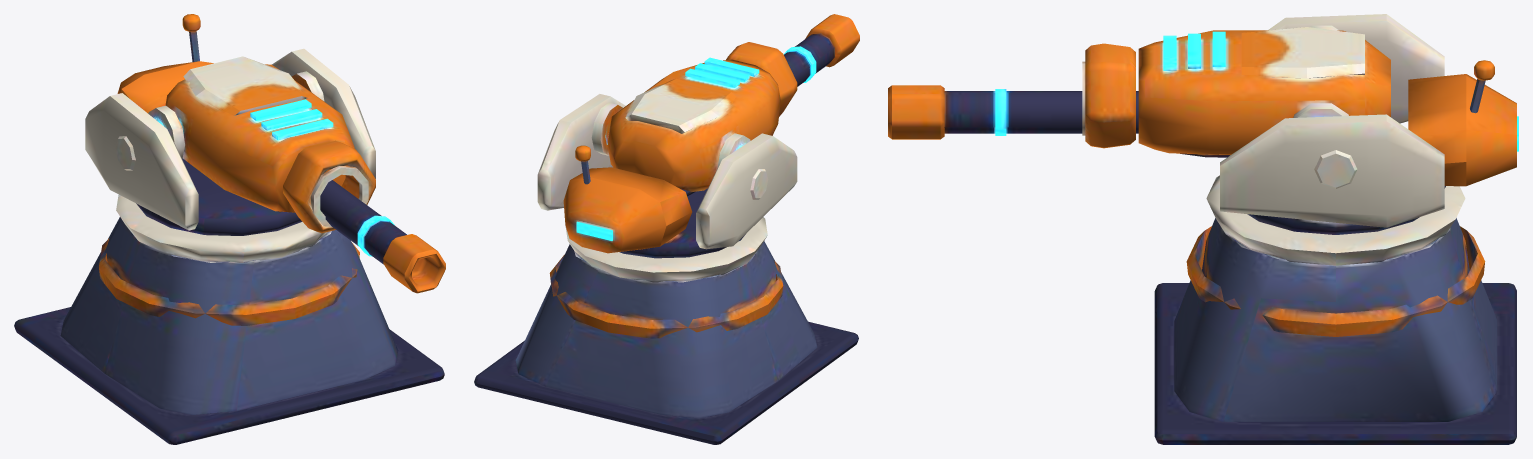
File: R4W_Basic_LOD1.glb
3 renders of one model, left to right at view 1: azimuth 30°, elevation 25°; view 2: azimuth 150°, elevation 25°; view 3: azimuth 270°, elevation 25°, orthographic. The views are drawn at different scales.
Visible parts, largest first — view 1: R4W_Basic_LOD1; view 2: R4W_Basic_LOD1; view 3: R4W_Basic_LOD1.
Boxes of the visible parts, x1=… form: R4W_Basic_LOD1: x1=14, y1=14, x2=445, y2=444; R4W_Basic_LOD1: x1=474, y1=14, x2=859, y2=444; R4W_Basic_LOD1: x1=888, y1=14, x2=1518, y2=444.
Size of the model in its own units: 0.5 by 0.496 by 0.8705.
Materials: 4 (4 with a texture image).
